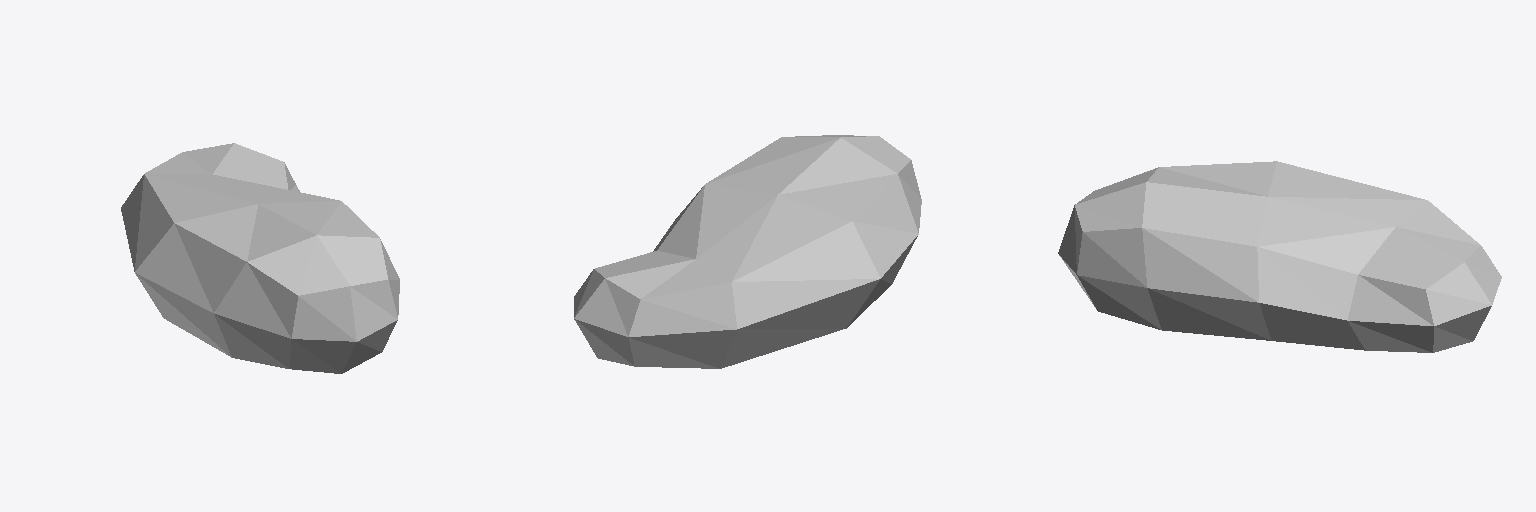
Rendered from rock.obj.
The picture shows the model from 3 angles: view 1: azimuth 30°, elevation 25°; view 2: azimuth 150°, elevation 25°; view 3: azimuth 270°, elevation 25°; orthographic projection.
Parts seen in each view (by area): view 1: Cube.016; view 2: Cube.016; view 3: Cube.016.
Part boxes in pixels (x1,y1,x2,y2): Cube.016: (121, 143, 399, 373); Cube.016: (574, 135, 921, 368); Cube.016: (1058, 161, 1501, 352).
Size of the model in its own units: 1.11 by 0.6424 by 1.82.